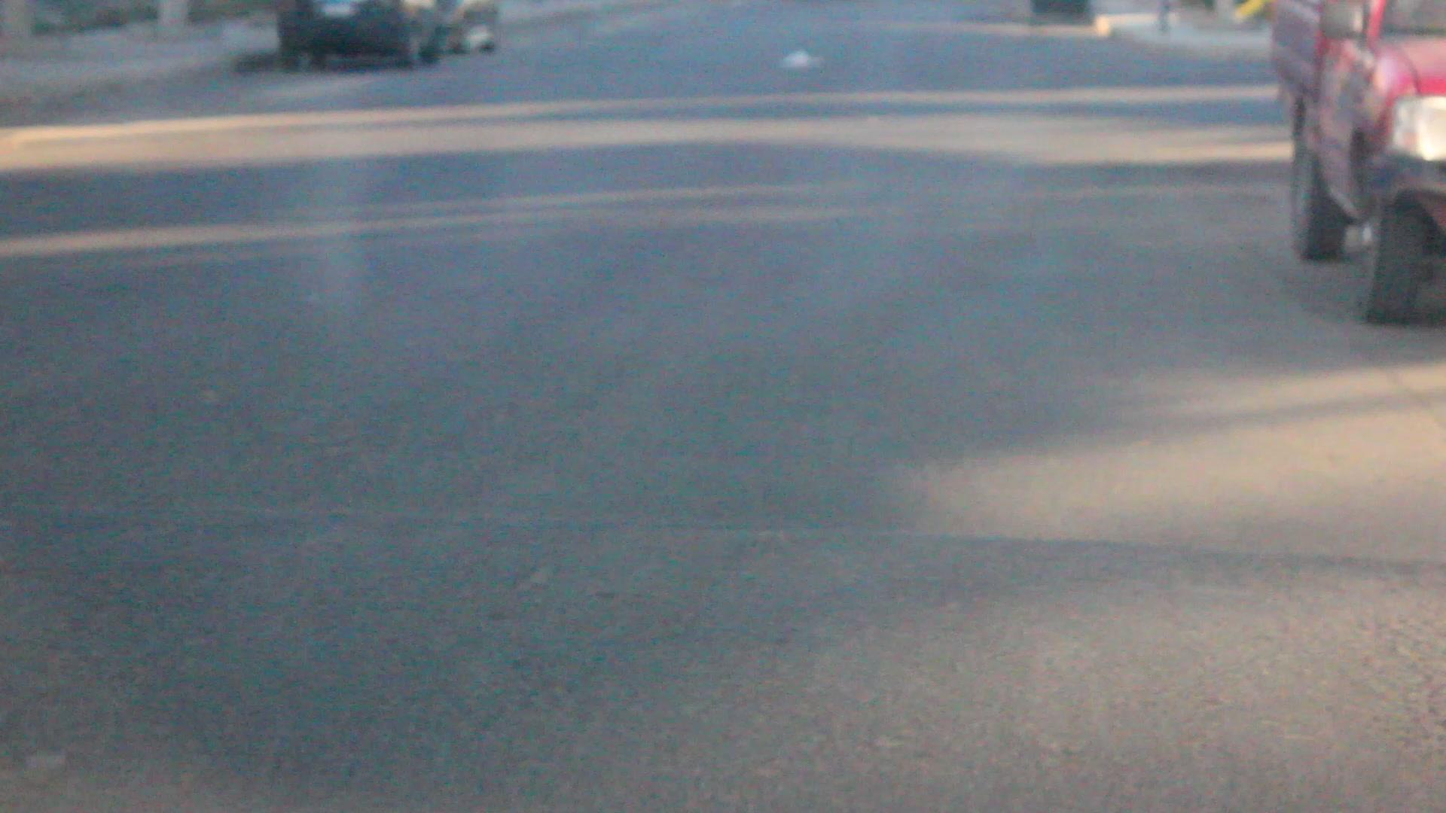Bump: (2, 491, 1446, 813)
